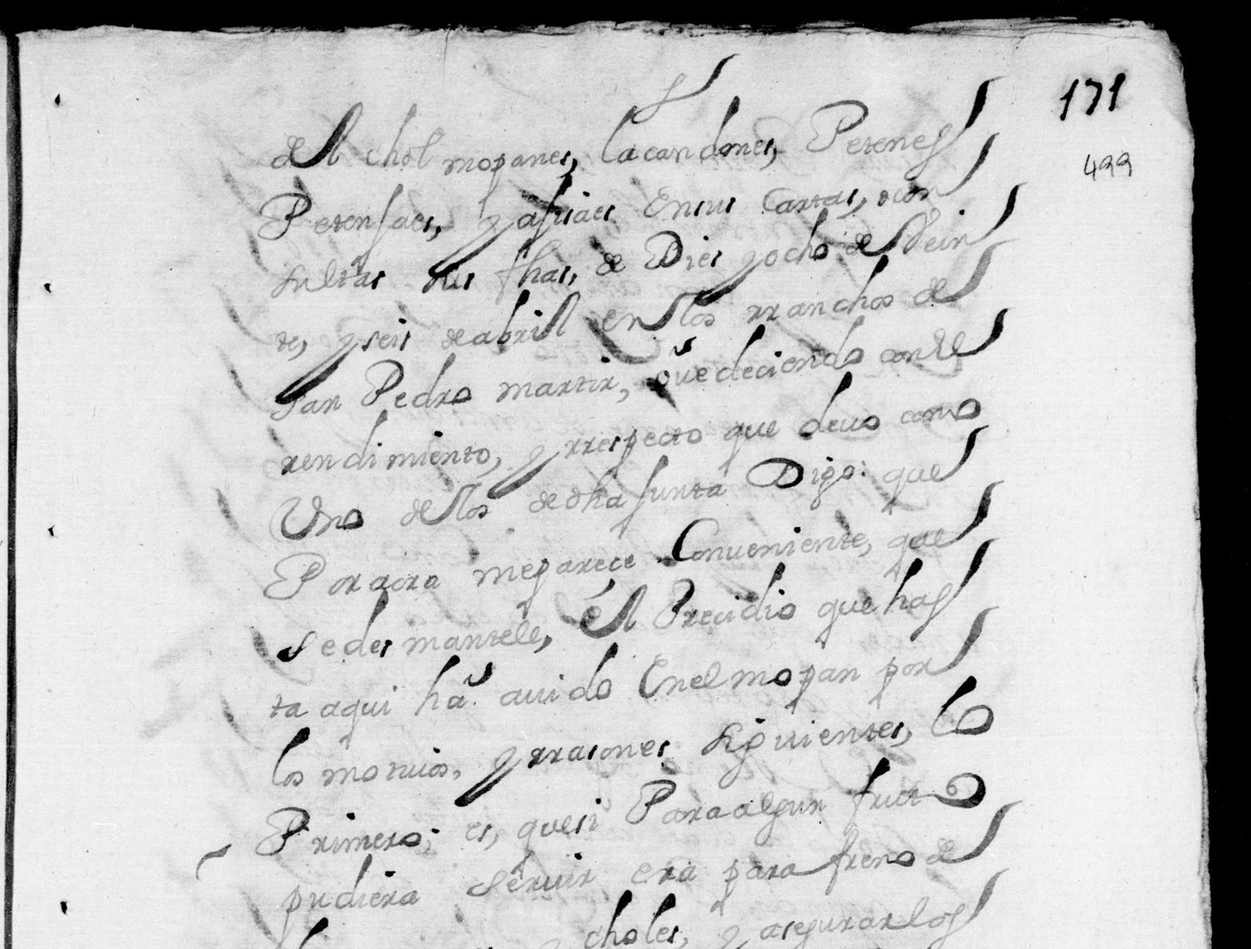lacandon: (601, 95, 774, 164)
